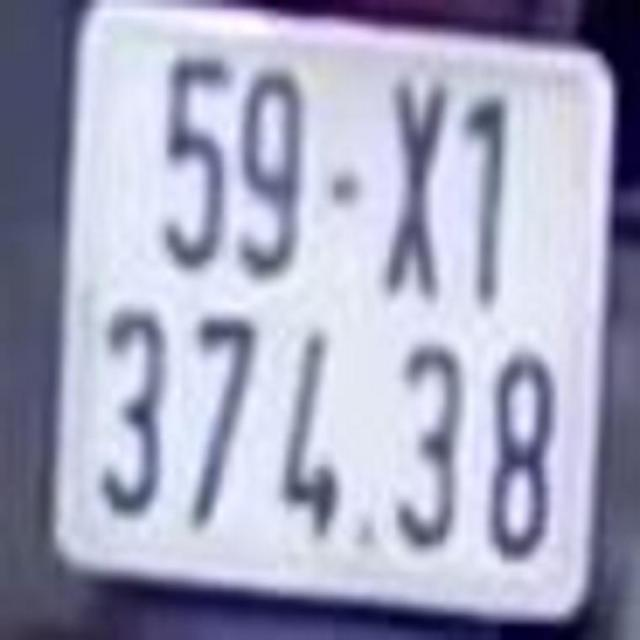1: (456, 74, 523, 304)
3: (389, 316, 463, 567), (89, 292, 170, 514)
4: (277, 304, 347, 554)
5: (149, 48, 231, 268)
7: (181, 294, 255, 548)
8: (492, 320, 567, 581)
9: (236, 46, 308, 284)
X: (367, 62, 453, 294)
